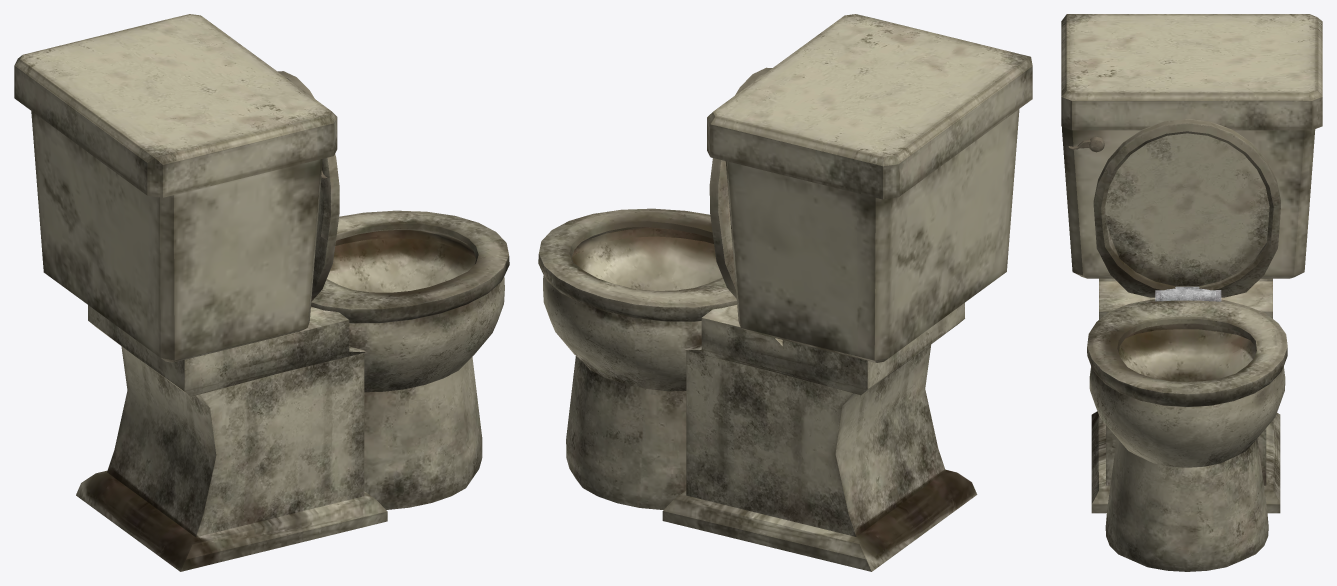
Rendered from toilet-transformed.glb.
3 views of the same model, side by side, from view 1: azimuth 30°, elevation 25°; view 2: azimuth 150°, elevation 25°; view 3: azimuth 270°, elevation 25° (orthographic). The views are drawn at different scales.
Visible parts, largest first — view 1: pCube23, pCube21, pCylinder2, pCube22, pCylinder3; view 2: pCube23, pCube21, pCylinder2, pCube22, pCylinder3; view 3: pCylinder2, pCube22, pCylinder3, pCube21, pCube23, pCylinder4.
Part boxes in pixels (bbox=[...]): pCube23: bbox=[76, 305, 387, 571]; pCube21: bbox=[31, 111, 322, 362]; pCylinder2: bbox=[311, 210, 509, 509]; pCube22: bbox=[14, 14, 337, 197]; pCylinder3: bbox=[277, 71, 339, 301]; pCube23: bbox=[662, 303, 977, 571]; pCube21: bbox=[725, 109, 1019, 362]; pCylinder2: bbox=[538, 208, 737, 509]; pCube22: bbox=[707, 14, 1032, 199]; pCylinder3: bbox=[709, 67, 772, 298]; pCylinder2: bbox=[1087, 299, 1287, 571]; pCube22: bbox=[1061, 14, 1322, 130]; pCylinder3: bbox=[1093, 119, 1280, 297]; pCube21: bbox=[1062, 126, 1315, 278]; pCube23: bbox=[1091, 278, 1280, 513]; pCylinder4: bbox=[1155, 286, 1221, 301].
Bounding box in the file's own units: 106 × 107 × 64.45.
Materials: 2 (2 with a texture image).
